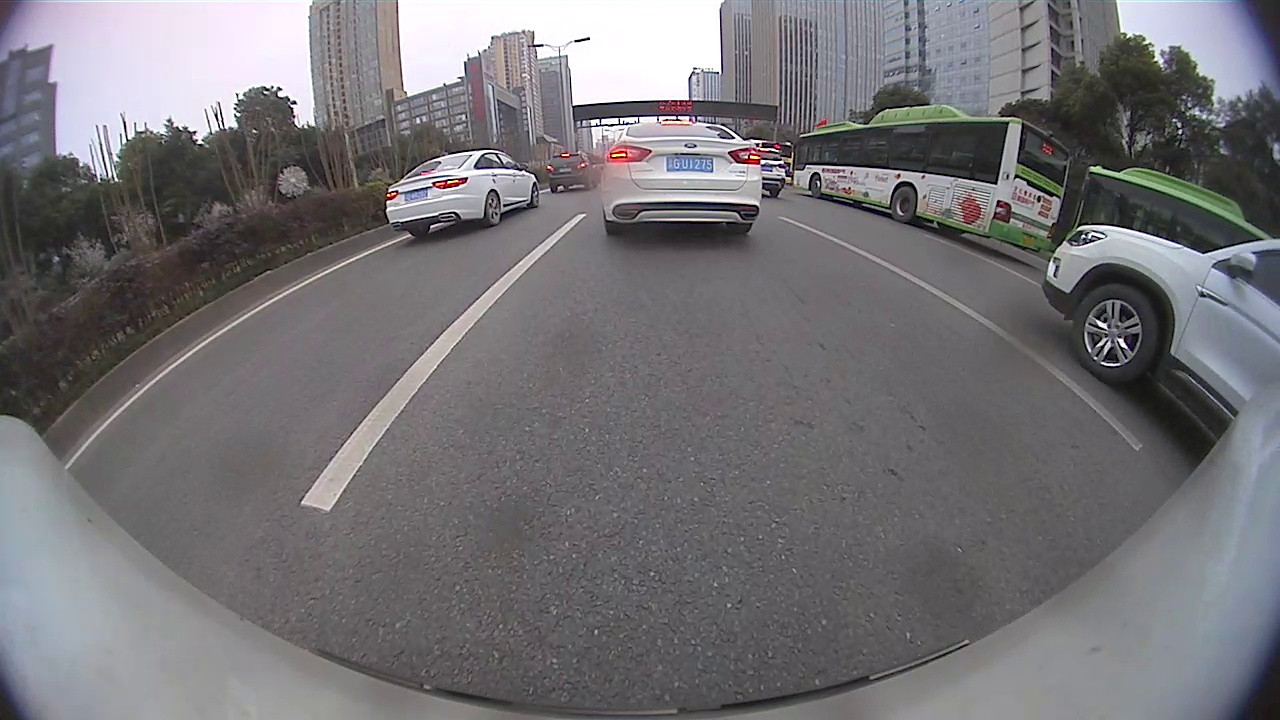bus: (794, 105, 1071, 252), (1066, 166, 1273, 254)
car: (1042, 226, 1278, 428), (601, 120, 762, 236), (386, 149, 539, 238), (546, 151, 601, 193), (758, 147, 786, 198)
front: (1067, 287, 1161, 389), (532, 181, 544, 208), (806, 174, 820, 197)
rear: (890, 184, 917, 222), (484, 192, 503, 227)
